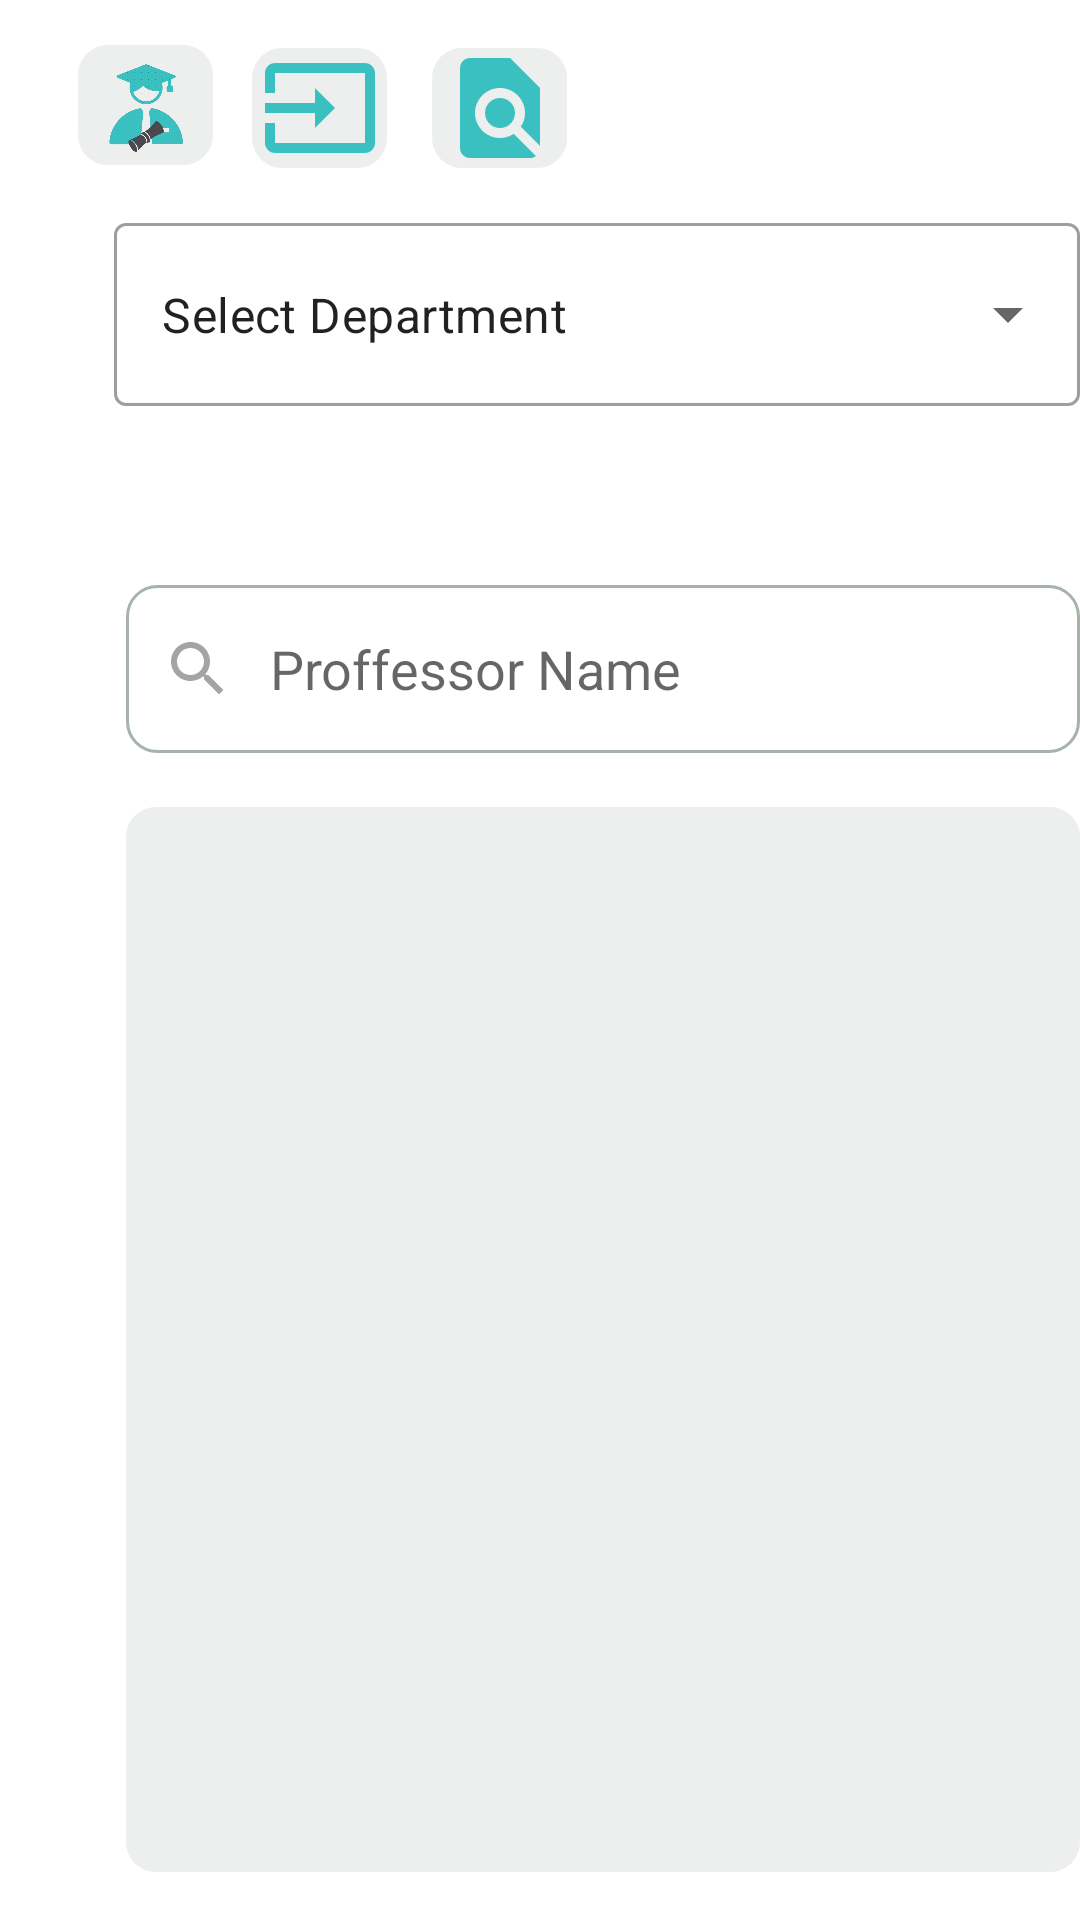

Where icons sit on this 1080 × 1920 app screen, as (x1, y1, x2, y2):
find assessment: (460, 58, 540, 158)
input: (252, 48, 387, 168)
